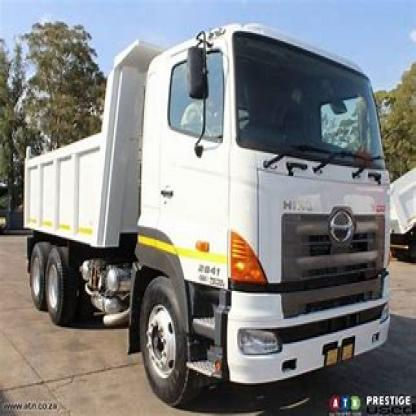dump_truck: (17, 23, 396, 398)
